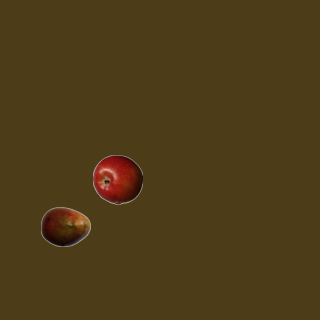Apple Braeburn: (92, 154, 142, 204)
Mango Red: (40, 201, 90, 251)
